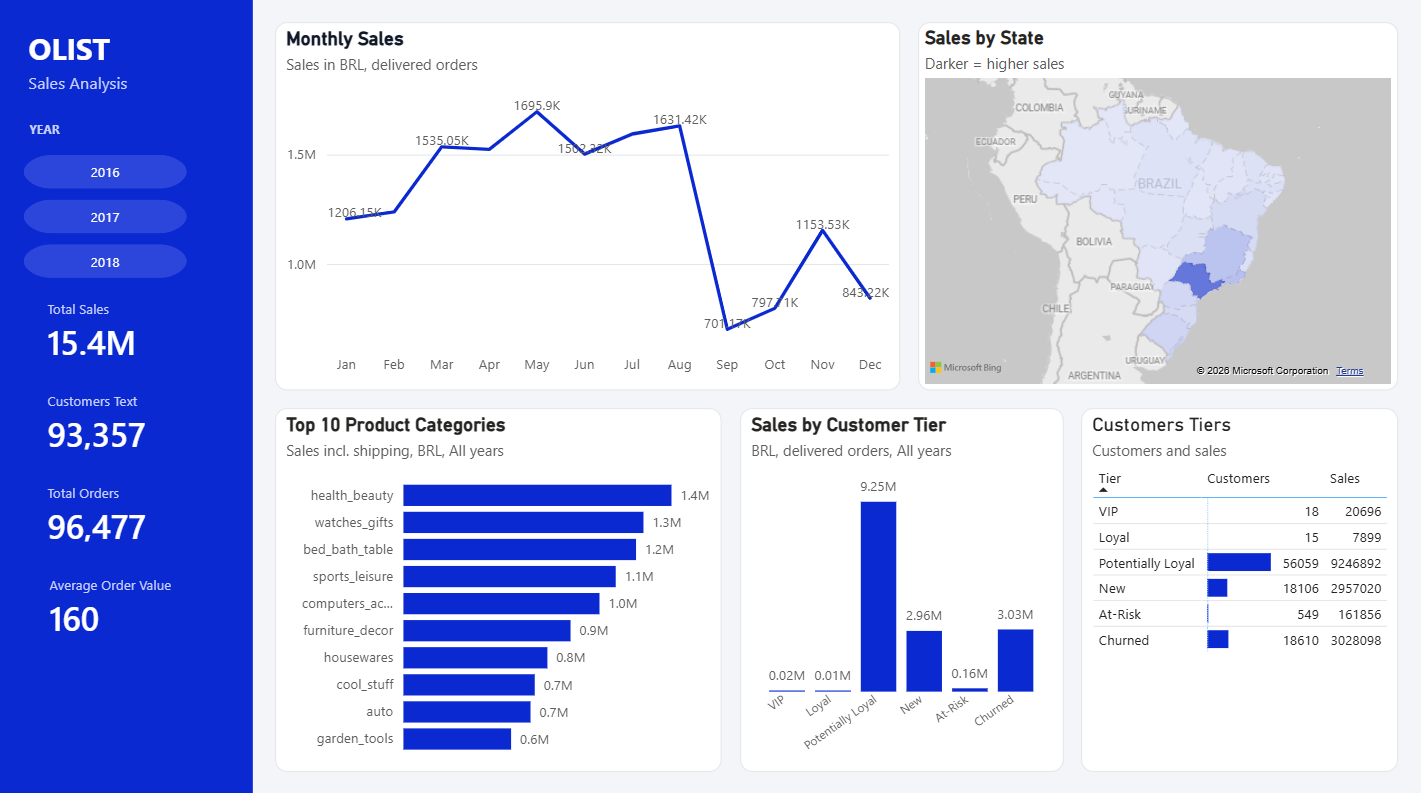

This screenshot's page, from the dashboard's own definition file:
{"tool":"powerbi","page":{"name":"Page 1","canvas":[1280,720],"ordinal":0},"visuals":[{"type":"shape","box":[0,0,230,720],"z":0},{"type":"tableEx","title":"Customers Tiers","fields":{"Values":["vw_sales_by_tier.Tier","vw_sales_by_tier.Customers Bar","Sum(vw_sales_by_tier.Customers)","Sum(vw_sales_by_tier.Sales)"]},"box":[972,370,284,326],"z":1000},{"type":"lineChart","title":"Monthly Sales","fields":{"Category":["vw_sales_monthly.Month Name"],"Y":["Sum(vw_sales_monthly.Sales)"]},"box":[250,24,560,330],"z":2000},{"type":"filledMap","title":"Sales by State","fields":{"Category":["vw_sales_by_state.State"]},"box":[826,24,430,330],"z":3000},{"type":"clusteredColumnChart","title":"Sales by Customer Tier","fields":{"Category":["vw_sales_by_tier.Tier"],"Y":["Sum(vw_sales_by_tier.Sales)"]},"box":[666,370,290,326],"z":4000},{"type":"clusteredBarChart","title":"Top 10 Product Categories","fields":{"Category":["vw_sales_by_category.Category"],"Y":["Sum(vw_sales_by_category.Sales)"]},"box":[250,370,400,326],"z":5000},{"type":"textbox","box":[24,24,149.7,57.6],"z":6000},{"type":"textbox","box":[24,64,149.7,47.7],"z":7000},{"type":"textbox","box":[24.7,105.3,149.7,29.6],"z":8000},{"type":"cardVisual","fields":{"Data":["vw_sales_monthly.Total Sales"]},"box":[17,259.7,182.6,82.3],"z":9000},{"type":"cardVisual","fields":{"Data":["vw_sales_monthly.Customers"]},"box":[17,341.2,182.6,82.3],"z":10000},{"type":"cardVisual","fields":{"Data":["vw_sales_by_category.Orders_"]},"box":[7.2,430.7,182.6,82.3],"z":11000},{"type":"cardVisual","fields":{"Data":["vw_sales_by_category.Average Order Value"]},"box":[17,532.8,182.6,82.3],"z":12000},{"type":"advancedSlicerVisual","fields":{"Values":["vw_sales_monthly.Order_year"]},"box":[18.8,134.3,158.5,125.4],"z":13000}]}

Visuals, with their boxes in screenshot pixels (x1, y1, x2, y2), scaled from the page's 1280x720 canvas onto the 1421x793 screenshot:
shape: bbox=(0, 0, 255, 792)
"Customers Tiers" tableEx: bbox=(1079, 408, 1394, 767)
"Monthly Sales" lineChart: bbox=(278, 26, 899, 390)
"Sales by State" filledMap: bbox=(917, 26, 1394, 390)
"Sales by Customer Tier" clusteredColumnChart: bbox=(739, 408, 1061, 767)
"Top 10 Product Categories" clusteredBarChart: bbox=(278, 408, 722, 767)
textbox: bbox=(27, 26, 193, 90)
textbox: bbox=(27, 70, 193, 123)
textbox: bbox=(27, 116, 194, 149)
cardVisual - vw_sales_monthly.Total Sales: bbox=(19, 286, 222, 377)
cardVisual - vw_sales_monthly.Customers: bbox=(19, 376, 222, 466)
cardVisual - vw_sales_by_category.Orders_: bbox=(8, 474, 211, 565)
cardVisual - vw_sales_by_category.Average Order Value: bbox=(19, 587, 222, 677)
advancedSlicerVisual - vw_sales_monthly.Order_year: bbox=(21, 148, 197, 286)
